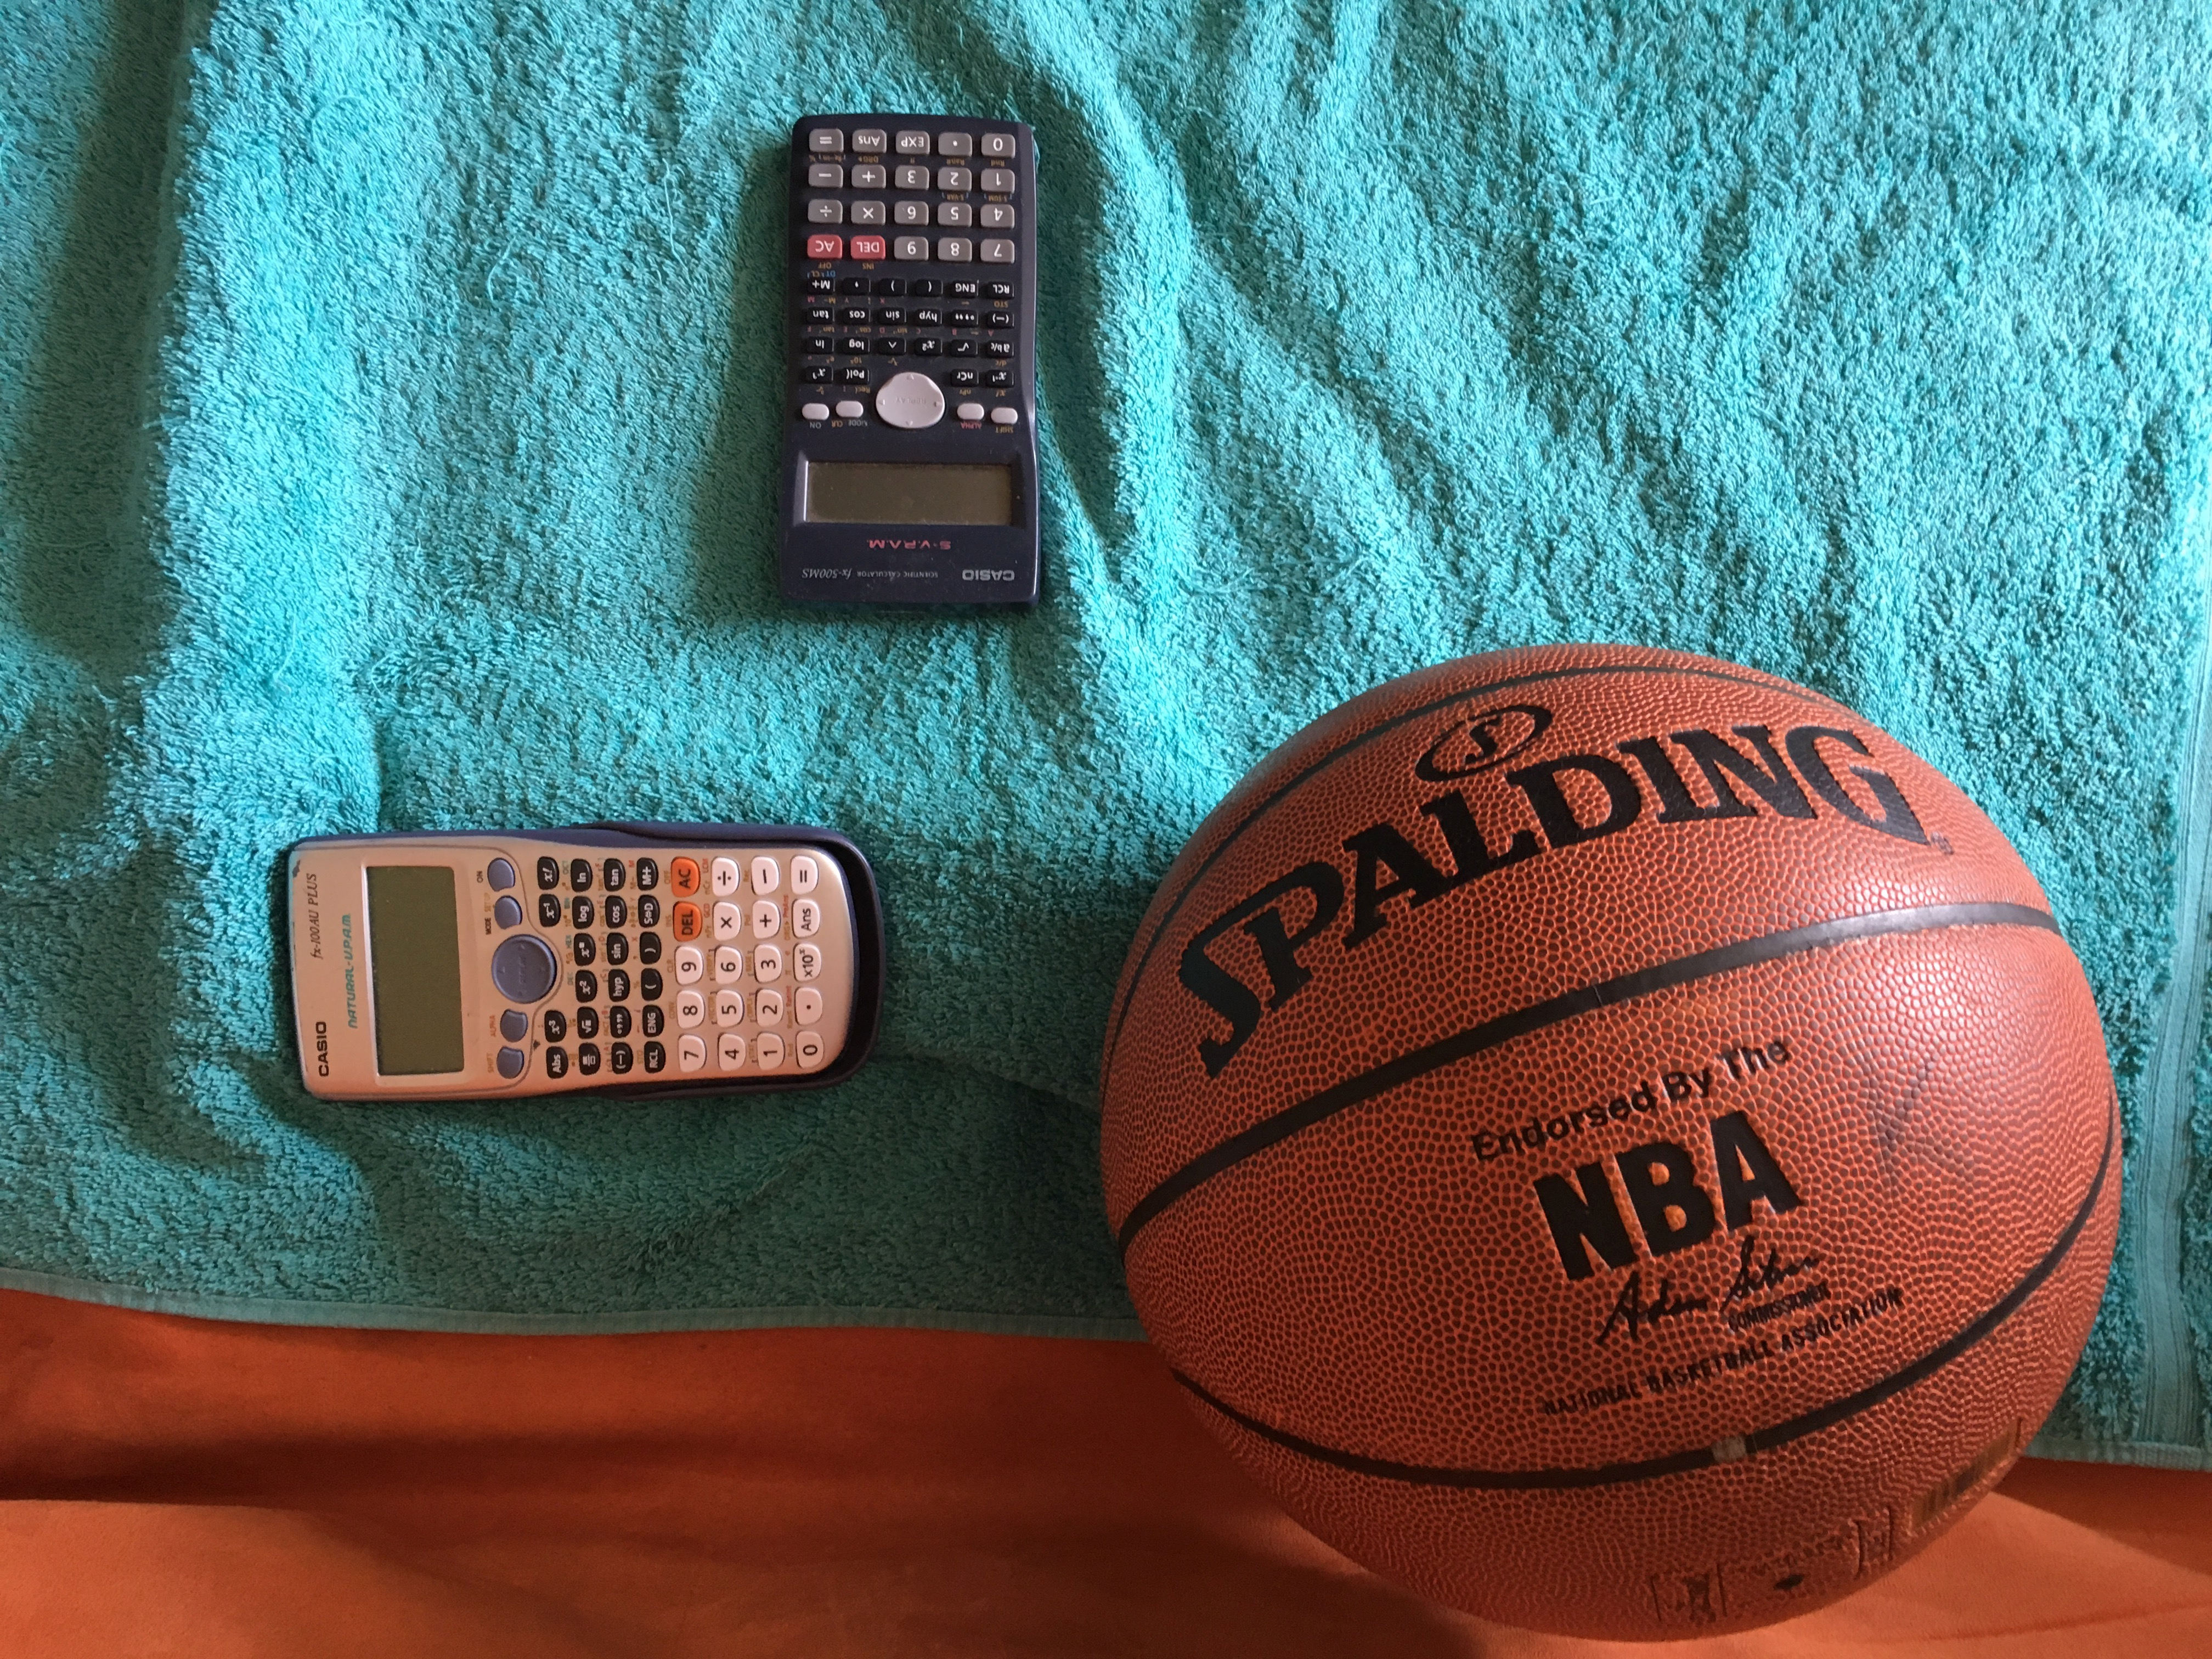Basketball: (1076, 636, 2128, 1652)
Calculator: (263, 812, 902, 1119), (752, 101, 1064, 612)
